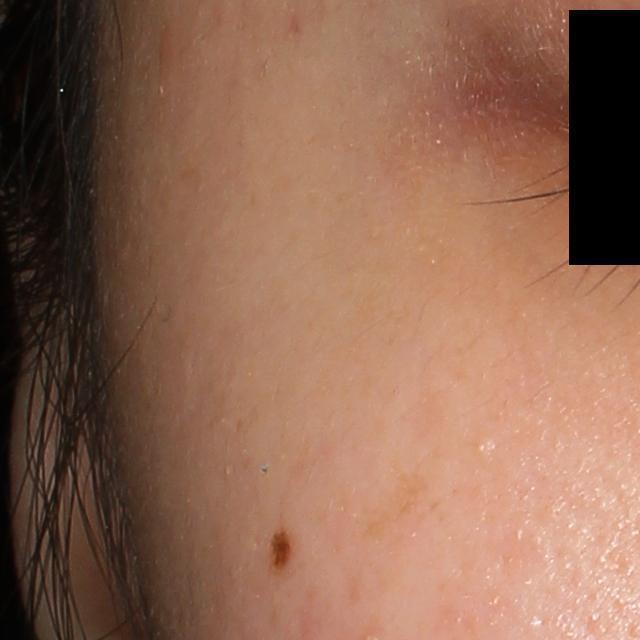nevus: (267, 531, 290, 568)
